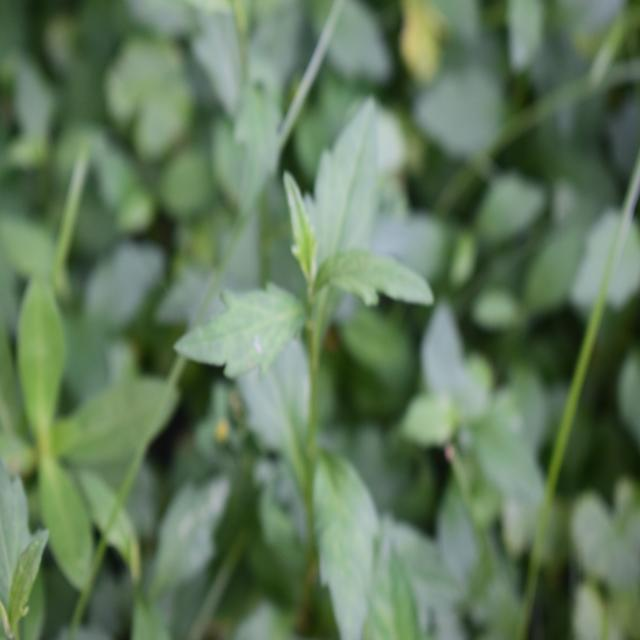Indian aster: (191, 114, 436, 626)
